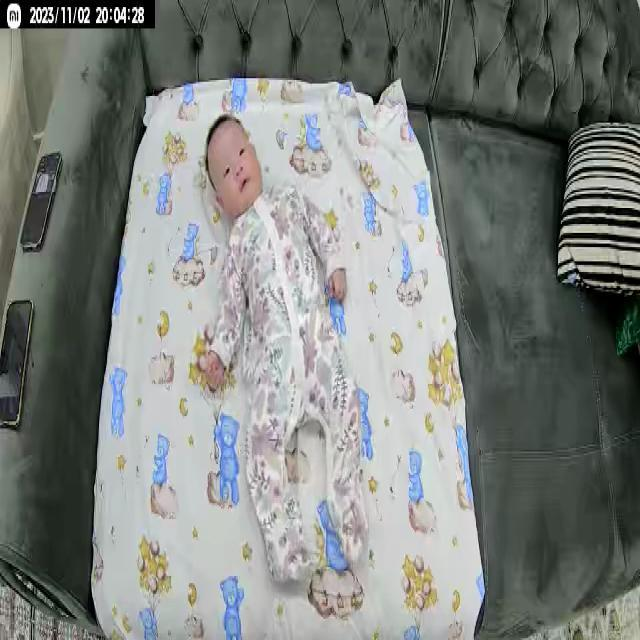baby: (198, 111, 376, 578)
